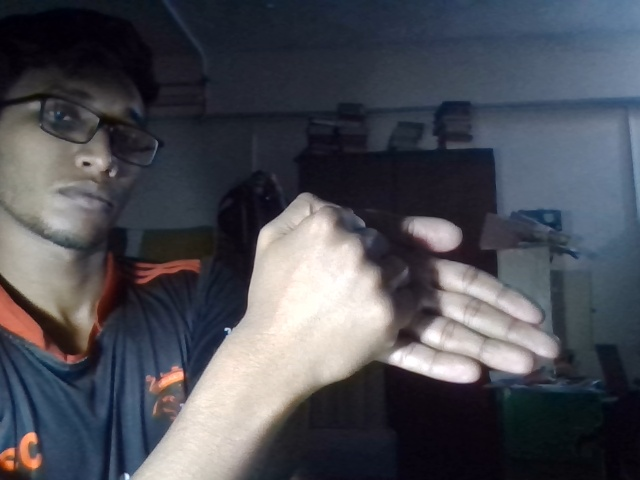b: (237, 185, 571, 397)
